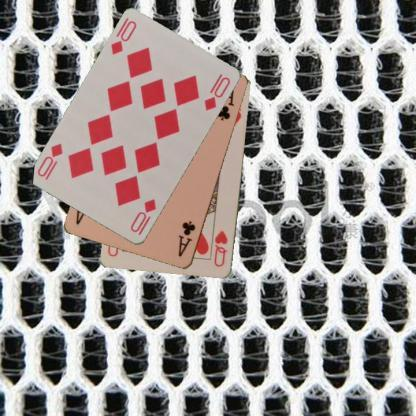10d: (128, 196, 158, 234), (108, 18, 138, 56)
Ac: (176, 218, 198, 258)
Qh: (211, 228, 230, 269)
